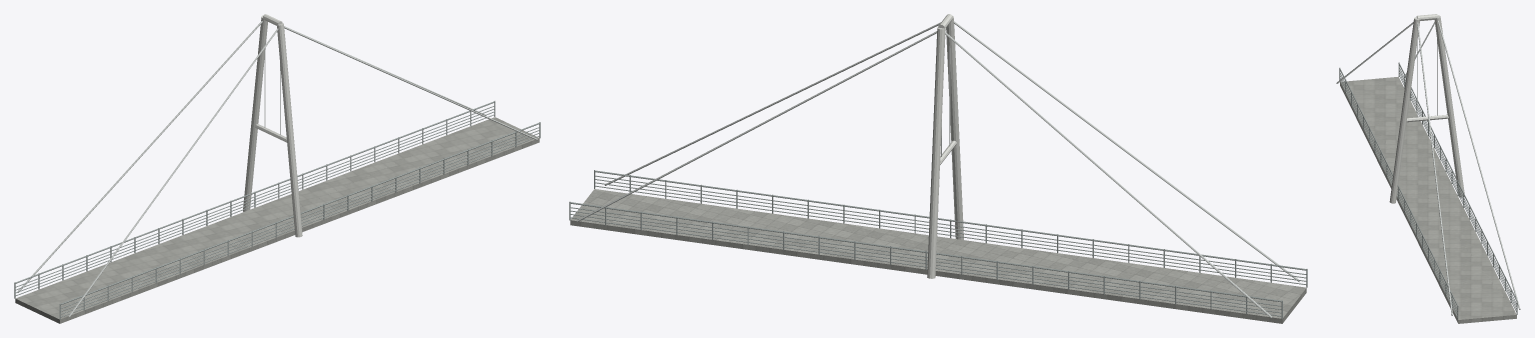
3 renders of one model, left to right at view 1: azimuth 30°, elevation 25°; view 2: azimuth 150°, elevation 25°; view 3: azimuth 270°, elevation 25°, orthographic. The views are drawn at different scales.
Visible parts, largest first — view 1: libraryBridge__bridgeDeck, libraryBridge__bridgeRails, libraryBridge__bridgeMasts, libraryBridge__bridgeCables; view 2: libraryBridge__bridgeDeck, libraryBridge__bridgeRails, libraryBridge__bridgeCables, libraryBridge__bridgeMasts; view 3: libraryBridge__bridgeDeck, libraryBridge__bridgeRails, libraryBridge__bridgeMasts, libraryBridge__bridgeCables.
Part boxes in pixels (bbox=[...]): libraryBridge__bridgeDeck: bbox=[15, 117, 539, 323]; libraryBridge__bridgeRails: bbox=[14, 101, 540, 319]; libraryBridge__bridgeMasts: bbox=[243, 14, 302, 237]; libraryBridge__bridgeCables: bbox=[17, 21, 537, 317]; libraryBridge__bridgeDeck: bbox=[570, 189, 1306, 323]; libraryBridge__bridgeRails: bbox=[569, 170, 1307, 319]; libraryBridge__bridgeCables: bbox=[576, 21, 1299, 317]; libraryBridge__bridgeMasts: bbox=[927, 14, 963, 278]; libraryBridge__bridgeDeck: bbox=[1340, 76, 1516, 323]; libraryBridge__bridgeRails: bbox=[1339, 62, 1517, 319]; libraryBridge__bridgeMasts: bbox=[1389, 14, 1464, 203]; libraryBridge__bridgeCables: bbox=[1336, 20, 1520, 315].
Bounding box in the file's own units: 40.45 × 14.29 × 12.92.
Materials: 4 (1 with a texture image).
